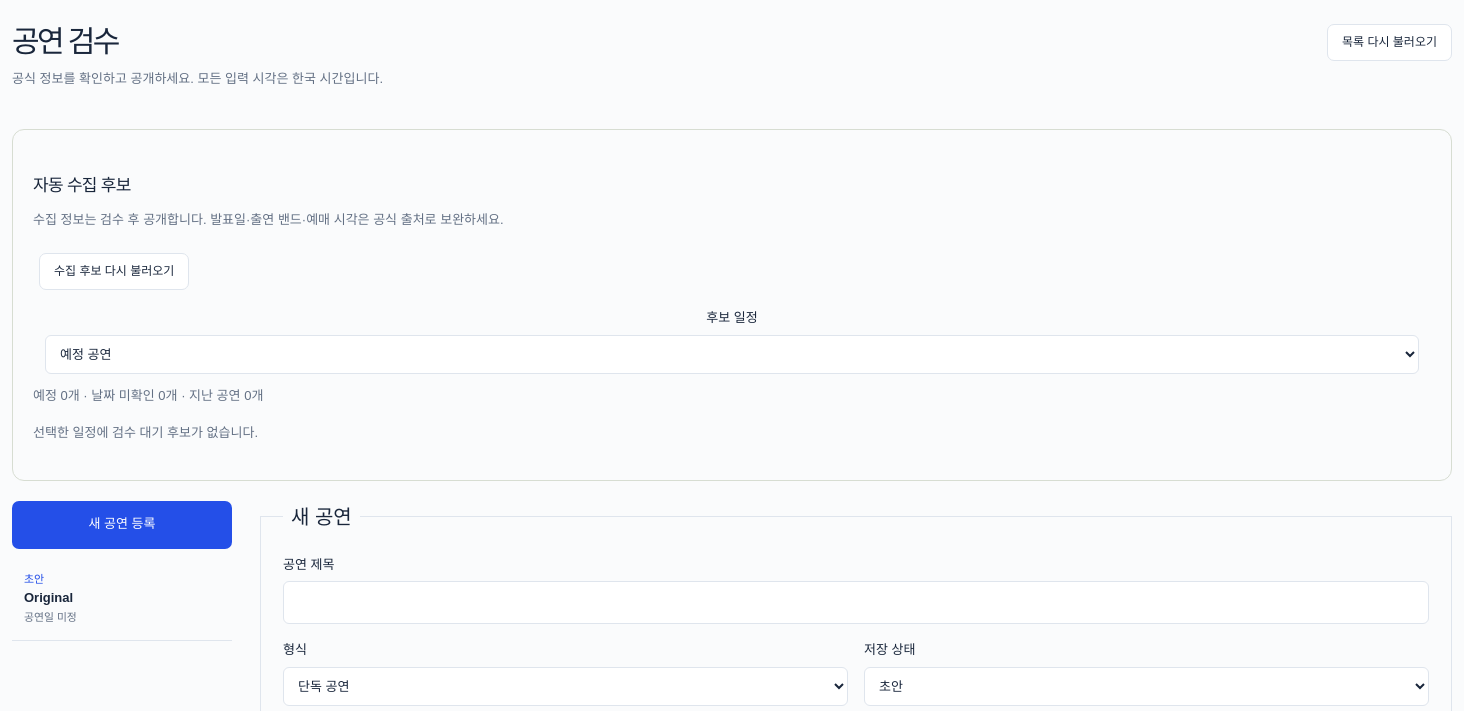
Test: admin editor retains edits after failure and saves server version after retry
Click the button "초안 Original 공연일 미정" at [122, 599], box [12,557,232,641]
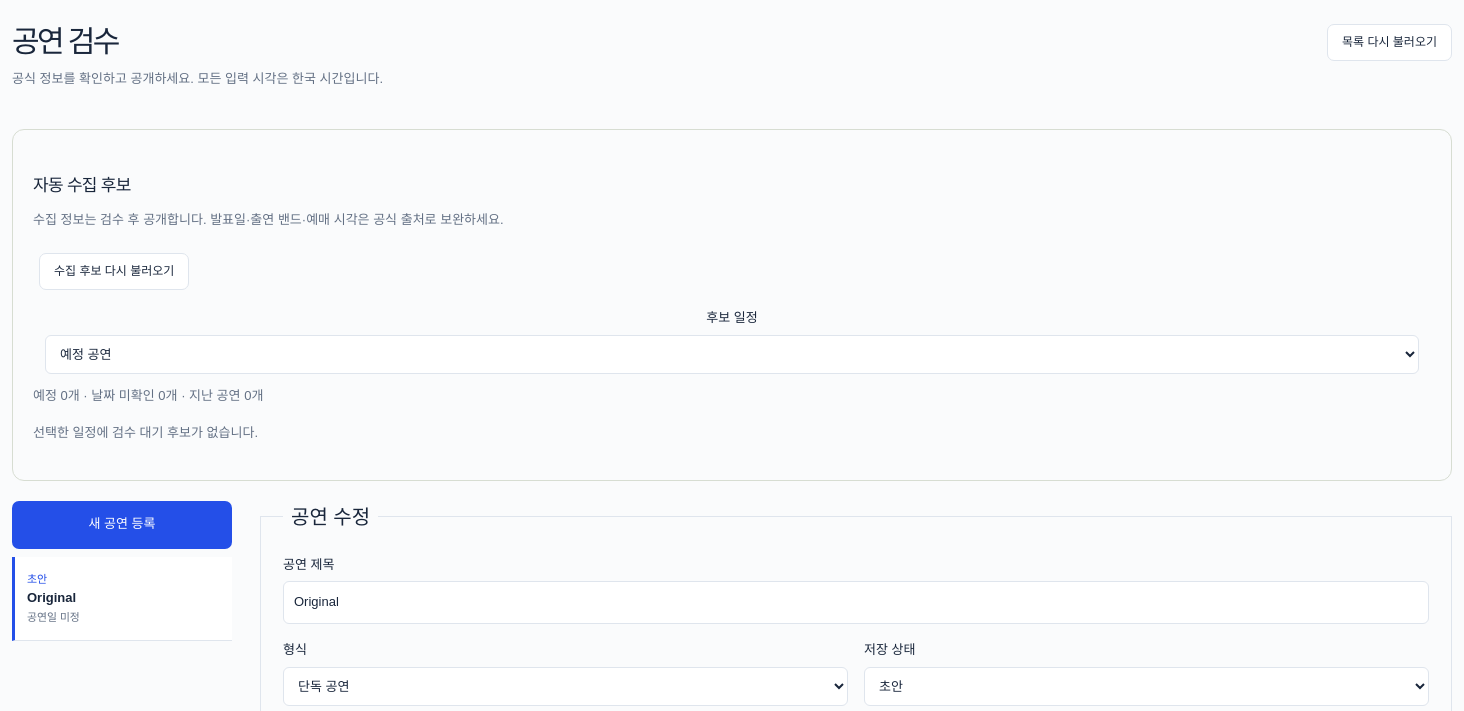
Replace the text in the field labelled "공연 제목" with "Updated" at [856, 603], box [283,581,1429,624]
(page scrolled)
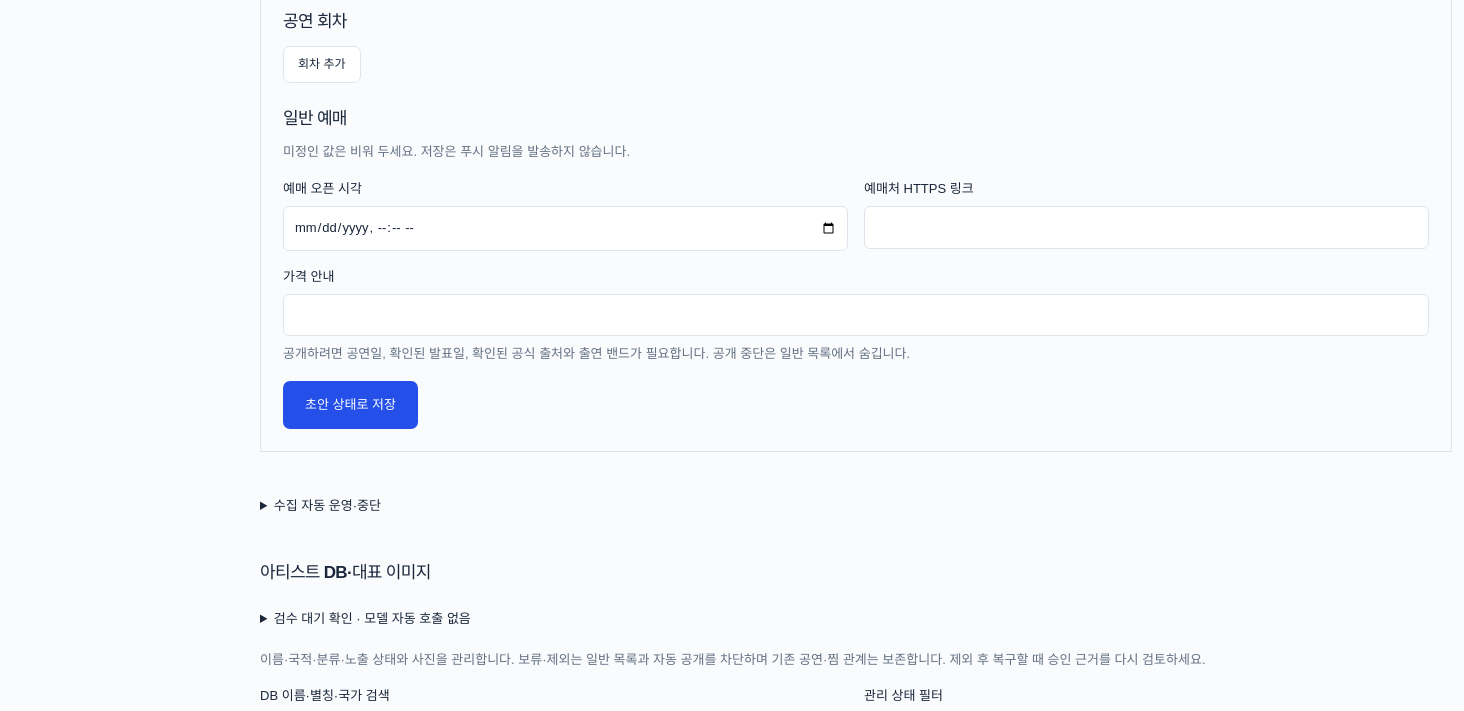
Click the button "초안 상태로 저장" at [350, 405], box [283,381,418,429]
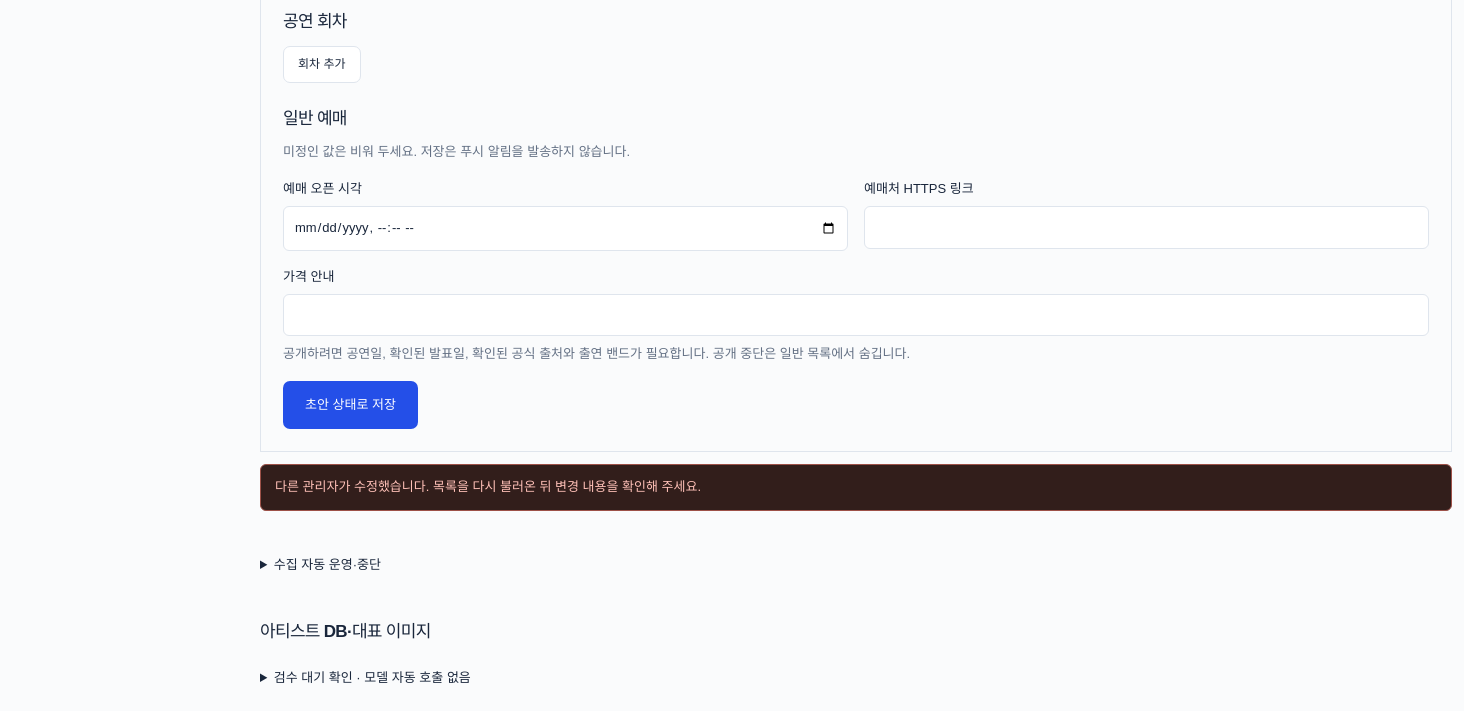
Expected: the text "다른 관리자가 수정했습니다. 목록을 다시 불러온 뒤 변경 내용을 확인해 주세요." is shown, [260,464,1452,511]
Click the button "초안 상태로 저장" at [350, 405], box [283,381,418,429]
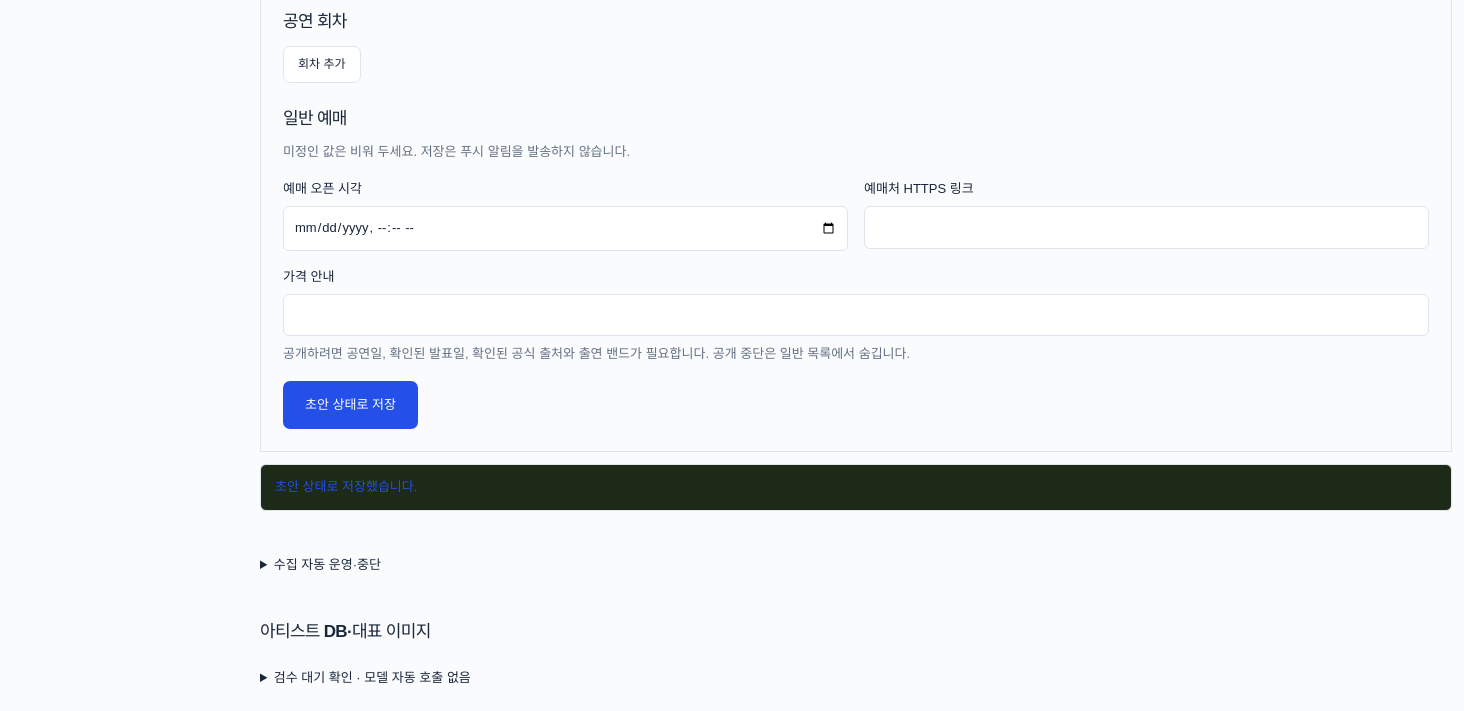
Expected: the text "초안 상태로 저장했습니다." is shown, [260,464,1452,511]
